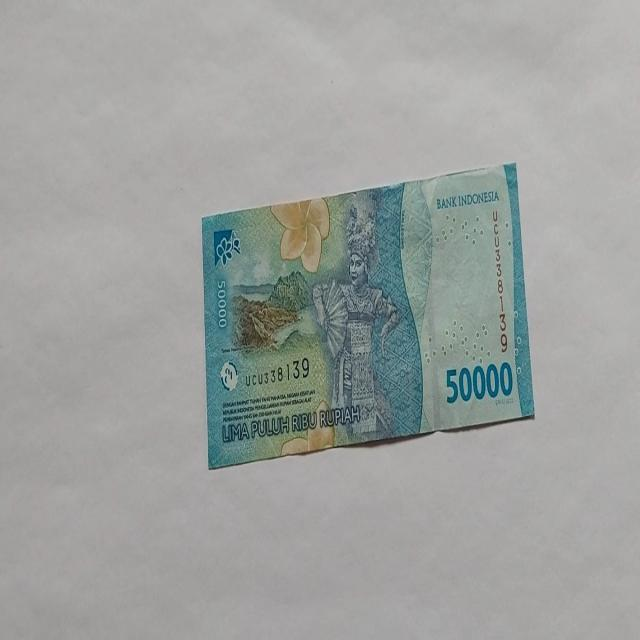lima puluh ribu rupiah: (201, 160, 535, 470)
